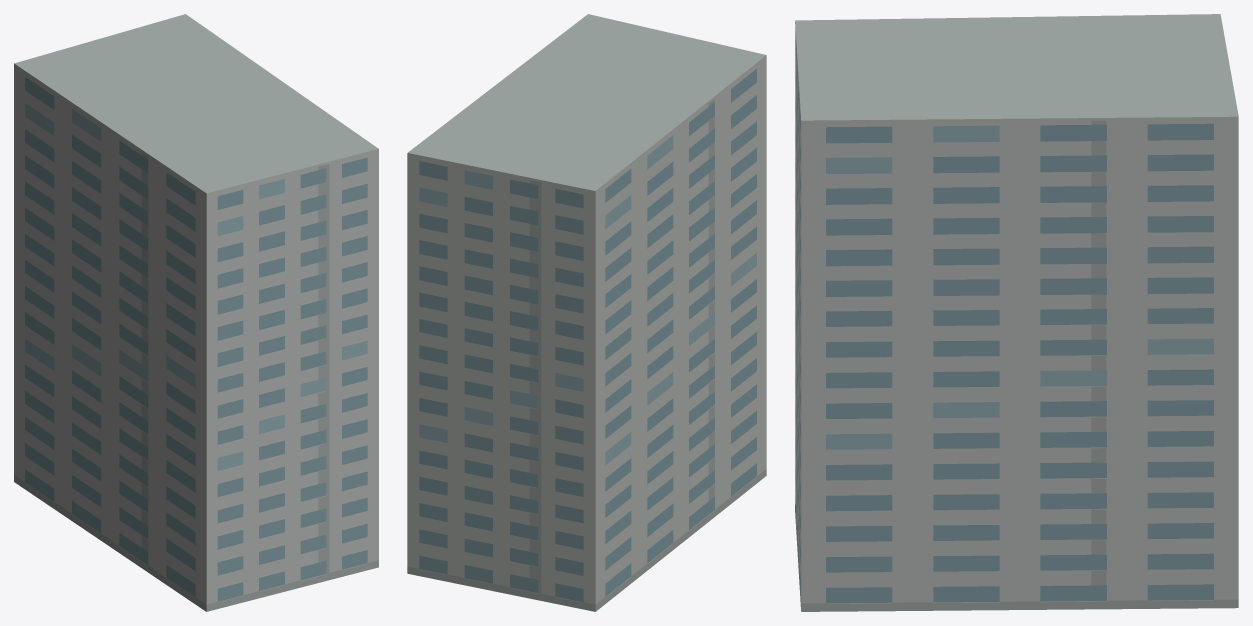
File: residential-b5b117a3-f36e-4f89-81e2-0d0a01eb73fa.glb
3 renders of one model, left to right at view 1: azimuth 30°, elevation 25°; view 2: azimuth 150°, elevation 25°; view 3: azimuth 270°, elevation 25°, orthographic. The views are drawn at different scales.
Parts seen in each view (by area): view 1: residential-b5b117a3-f36e-4f89-81e2-0d0a01eb73fa.tmp; view 2: residential-b5b117a3-f36e-4f89-81e2-0d0a01eb73fa.tmp; view 3: residential-b5b117a3-f36e-4f89-81e2-0d0a01eb73fa.tmp.
Part boxes in pixels (box(x1,y1,x2,y2)): residential-b5b117a3-f36e-4f89-81e2-0d0a01eb73fa.tmp: box(14, 14, 378, 611); residential-b5b117a3-f36e-4f89-81e2-0d0a01eb73fa.tmp: box(407, 14, 766, 611); residential-b5b117a3-f36e-4f89-81e2-0d0a01eb73fa.tmp: box(795, 14, 1238, 611).
Bounding box in the file's own units: 20.01 × 43 × 35.2.
